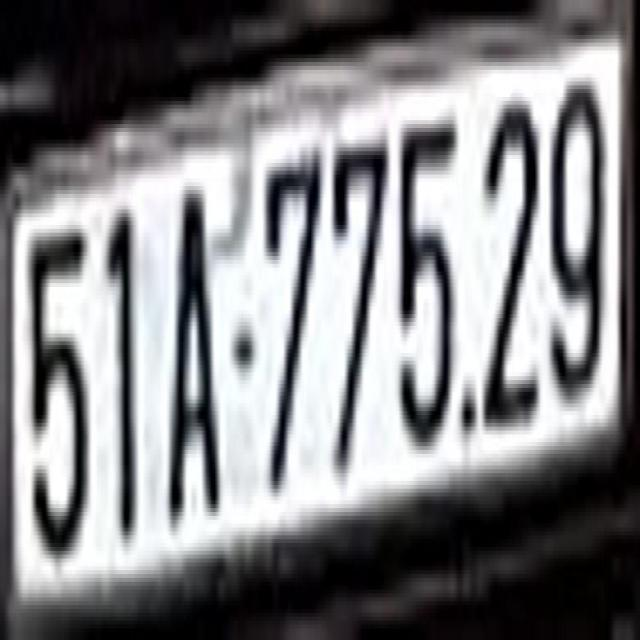1: (109, 194, 137, 543)
2: (482, 93, 541, 427)
5: (30, 218, 89, 562), (398, 112, 456, 446)
7: (331, 128, 392, 485), (264, 132, 318, 481)
9: (548, 74, 606, 408)
A: (168, 198, 222, 512)
